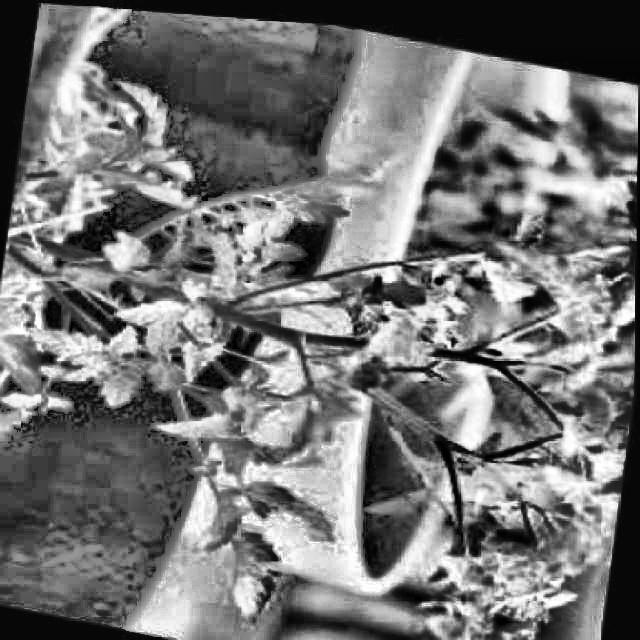plants: (0, 35, 638, 638)
